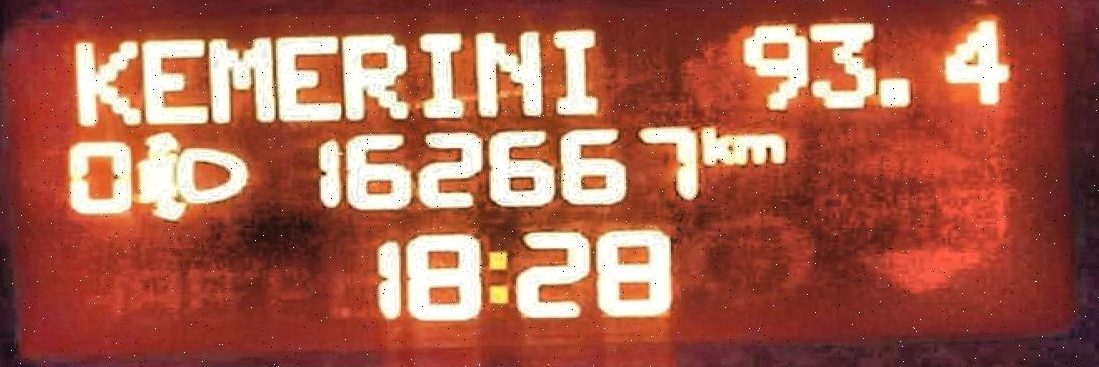-: (876, 75, 911, 108)
0: (66, 136, 136, 214)
1: (371, 238, 402, 319), (312, 135, 342, 209)
2: (512, 229, 587, 319), (412, 127, 482, 210)
3: (809, 19, 877, 109)
4: (937, 15, 1012, 105)
6: (342, 130, 412, 211), (557, 125, 626, 205), (485, 129, 554, 206)
7: (635, 123, 699, 200)
8: (594, 226, 672, 319), (406, 230, 482, 321)
9: (735, 23, 809, 112)
X: (472, 29, 544, 119), (339, 30, 410, 121), (206, 34, 277, 123), (272, 31, 342, 120), (139, 36, 209, 124), (72, 39, 141, 128), (414, 30, 467, 119), (551, 25, 601, 115), (482, 246, 511, 305), (729, 133, 784, 164), (699, 122, 729, 165)
